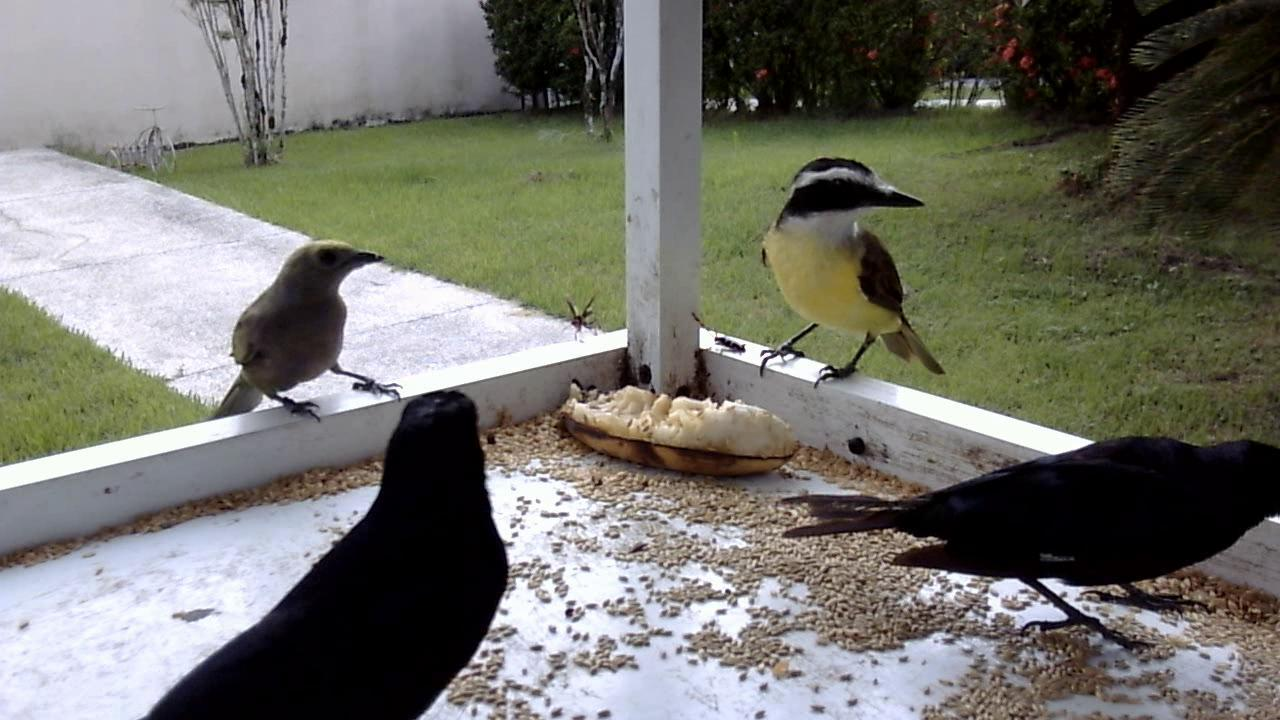bem_te_vi: (750, 154, 953, 397)
chupim: (762, 412, 1276, 666), (133, 384, 521, 713)
sanhaco_do_coqueiro: (203, 228, 406, 426)
